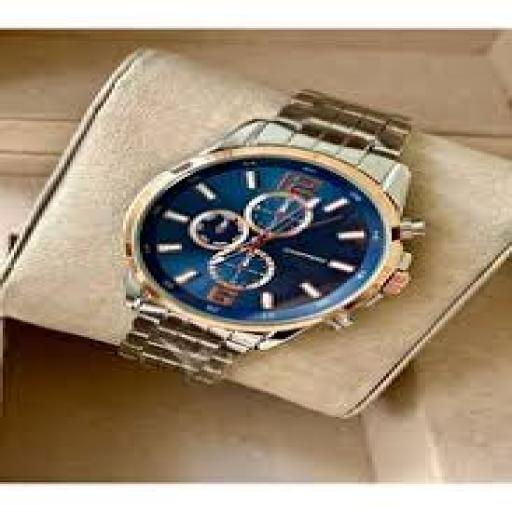KolSaati: (92, 62, 466, 418)
